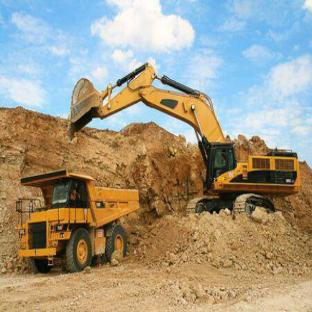ExcavationMachinery: (56, 73, 300, 221)
Vehicle: (13, 174, 142, 265)
